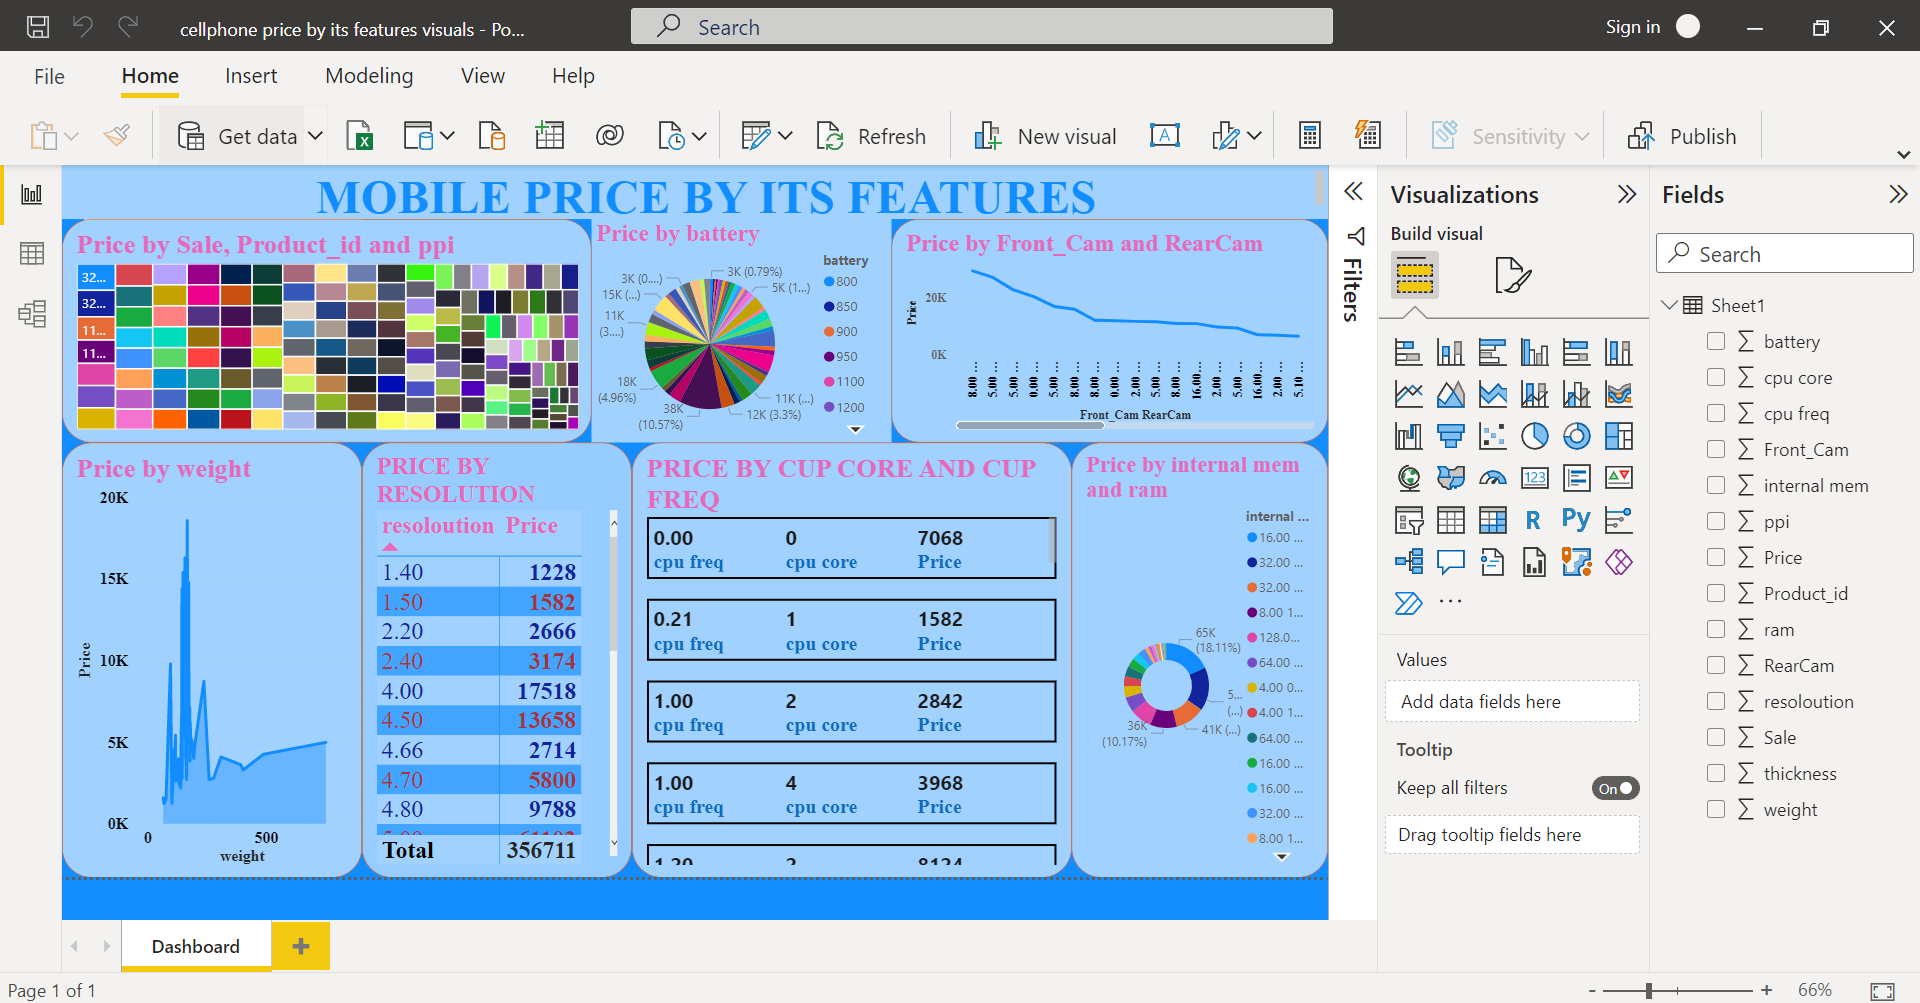

Layout of this report page (visuals, bound fields, positions):
{"tool":"powerbi","page":{"name":"Dashboard","canvas":[1280,720],"ordinal":0},"visuals":[{"type":"pieChart","fields":{"Series":["Sheet1.battery"],"Y":["Sum(Sheet1.Price)"]},"box":[535.4,54.6,303.3,226],"z":0},{"type":"pivotTable","title":"PRICE BY RESOLUTION","fields":{"Rows":["Sheet1.resoloution"],"Values":["Sum(Sheet1.Price)"]},"box":[303.3,280.6,273,439.8],"z":1000},{"type":"textbox","box":[23,0,280,280],"z":2000},{"type":"textbox","box":[0,0,1280,54.6],"z":3000},{"type":"treemap","fields":{"Values":["Sum(Sheet1.Price)"],"Group":["Sheet1.Sale","Sheet1.Product_id","Sheet1.ppi"]},"box":[0,54.6,535.4,226],"z":4000},{"type":"multiRowCard","title":"PRICE BY CUP CORE AND CUP FREQ","fields":{"Values":["Sheet1.cpu freq","Sheet1.cpu core","Sum(Sheet1.Price)"]},"box":[576.3,280.6,444.4,439.8],"z":5000},{"type":"areaChart","fields":{"Y":["Sum(Sheet1.Price)"],"Category":["Sheet1.weight"]},"box":[0,280.6,303.3,439.8],"z":6000},{"type":"lineChart","fields":{"Y":["Sum(Sheet1.Price)"],"Category":["Sheet1.Front_Cam","Sheet1.RearCam"]},"box":[838.7,54.6,441.3,226],"z":7000},{"type":"donutChart","fields":{"Y":["Sum(Sheet1.Price)"],"Category":["Sheet1.internal mem","Sheet1.ram"]},"box":[1020.7,280.6,259.3,439.8],"z":8000}]}

Visuals, with their boxes on the page's 1280x720 design canvas (x1, y1, x2, y2). These are canvas units, not pixel positions in the 1920x1003 screenshot, which may show the page scaled, cropped or inside an application window:
pieChart - Sheet1.battery x Sum(Sheet1.Price): <box>535,55,839,281</box>
"PRICE BY RESOLUTION" pivotTable: <box>303,281,576,720</box>
textbox: <box>23,0,303,280</box>
textbox: <box>0,0,1280,55</box>
treemap - Sum(Sheet1.Price) x Sheet1.Sale: <box>0,55,535,281</box>
"PRICE BY CUP CORE AND CUP FREQ" multiRowCard: <box>576,281,1021,720</box>
areaChart - Sum(Sheet1.Price) x Sheet1.weight: <box>0,281,303,720</box>
lineChart - Sum(Sheet1.Price) x Sheet1.Front_Cam: <box>839,55,1280,281</box>
donutChart - Sum(Sheet1.Price) x Sheet1.internal mem: <box>1021,281,1280,720</box>
